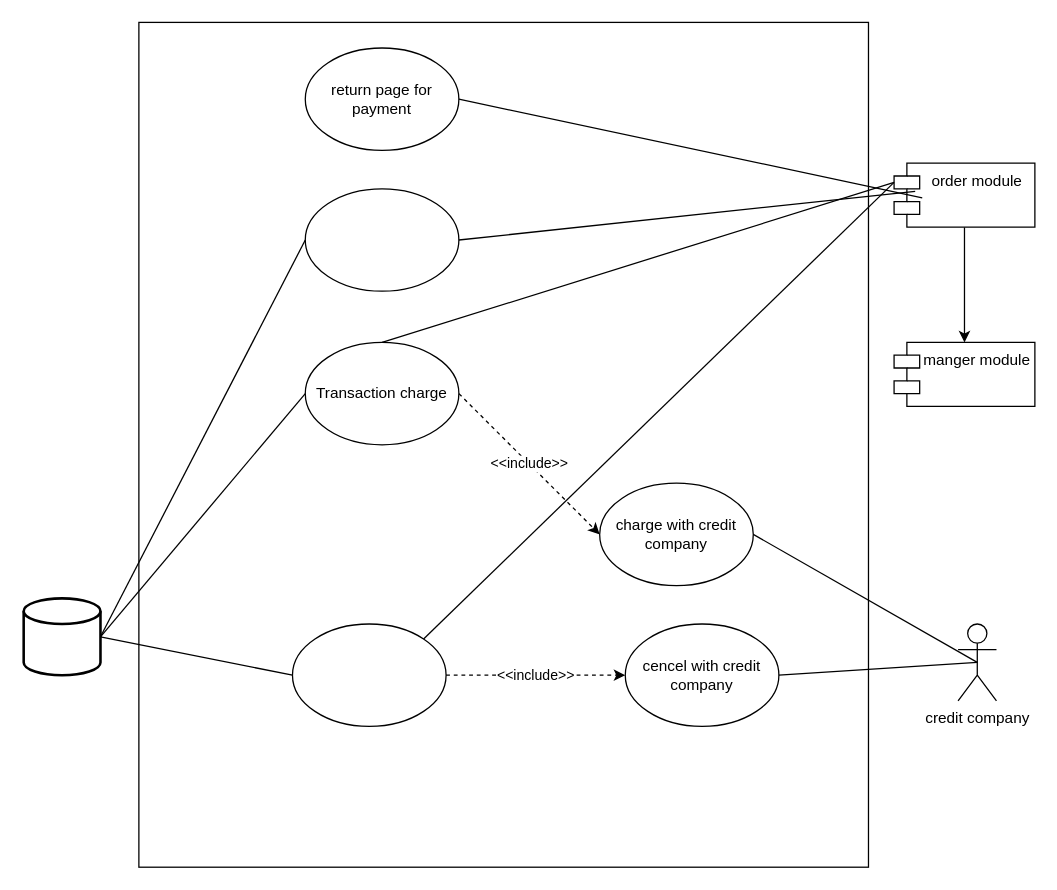
This 1057x890 diagram has some shape labels left out. Here are the shapes that lost their labels. From the top down, the box of each, then its label:
(304, 188, 459, 291): get Transaction
(22, 596, 101, 676): paymants
(291, 623, 446, 726): cencel Transaction
